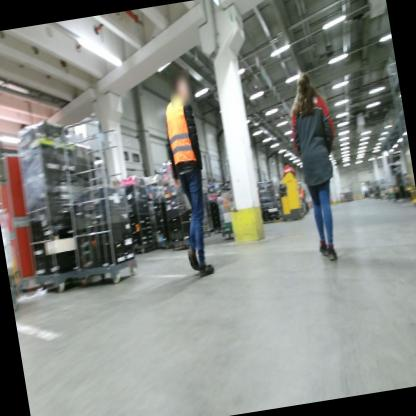pallet_truck: (245, 168, 308, 225)
